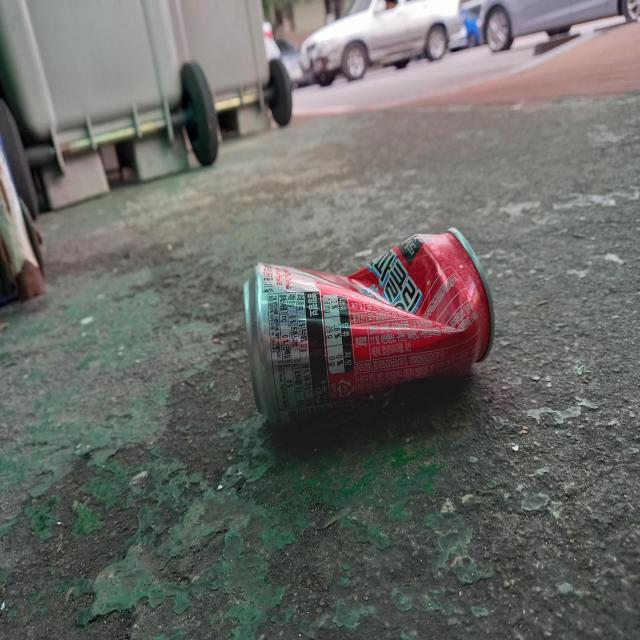can: (244, 228, 495, 426)
